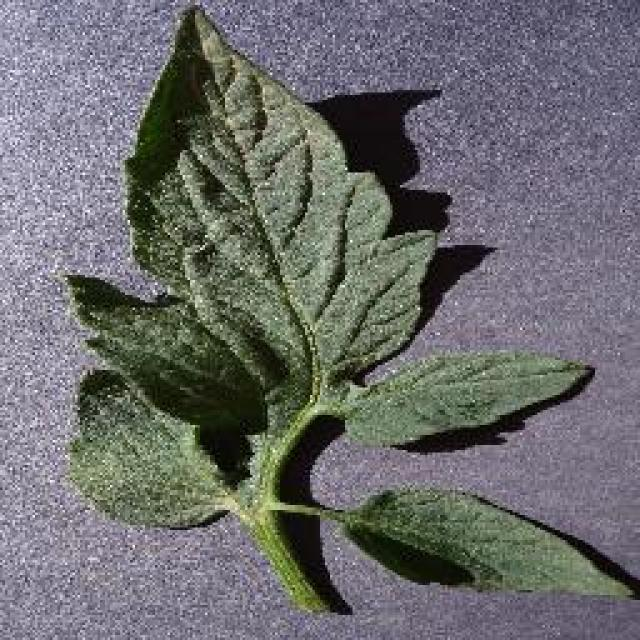Tomato healthy leaf: (74, 12, 411, 418), (335, 482, 640, 618), (65, 379, 265, 561), (326, 354, 596, 454)
